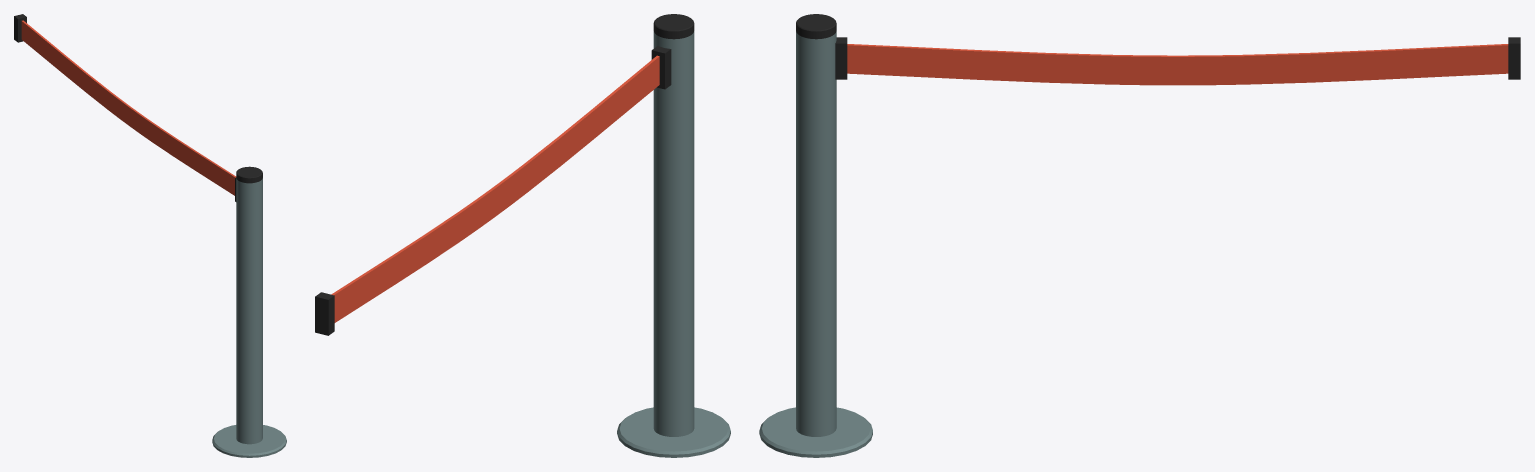
Rendered from airport-queue-barrier.glb.
3 views of the same model, side by side, from view 1: azimuth 30°, elevation 25°; view 2: azimuth 150°, elevation 25°; view 3: azimuth 270°, elevation 25° (orthographic). The views are drawn at different scales.
Parts seen in each view (by area): view 1: 17.9.1.Model_AIRPORT_0; view 2: 17.9.1.Model_AIRPORT_0; view 3: 17.9.1.Model_AIRPORT_0.
Boxes of the visible parts, x1=… form: 17.9.1.Model_AIRPORT_0: x1=14, y1=14, x2=286, y2=457; 17.9.1.Model_AIRPORT_0: x1=315, y1=14, x2=730, y2=457; 17.9.1.Model_AIRPORT_0: x1=759, y1=14, x2=1520, y2=457.
Bounding box in the file's own units: 0.2288 × 0.9139 × 1.53.
Materials: 1 (1 with a texture image).
